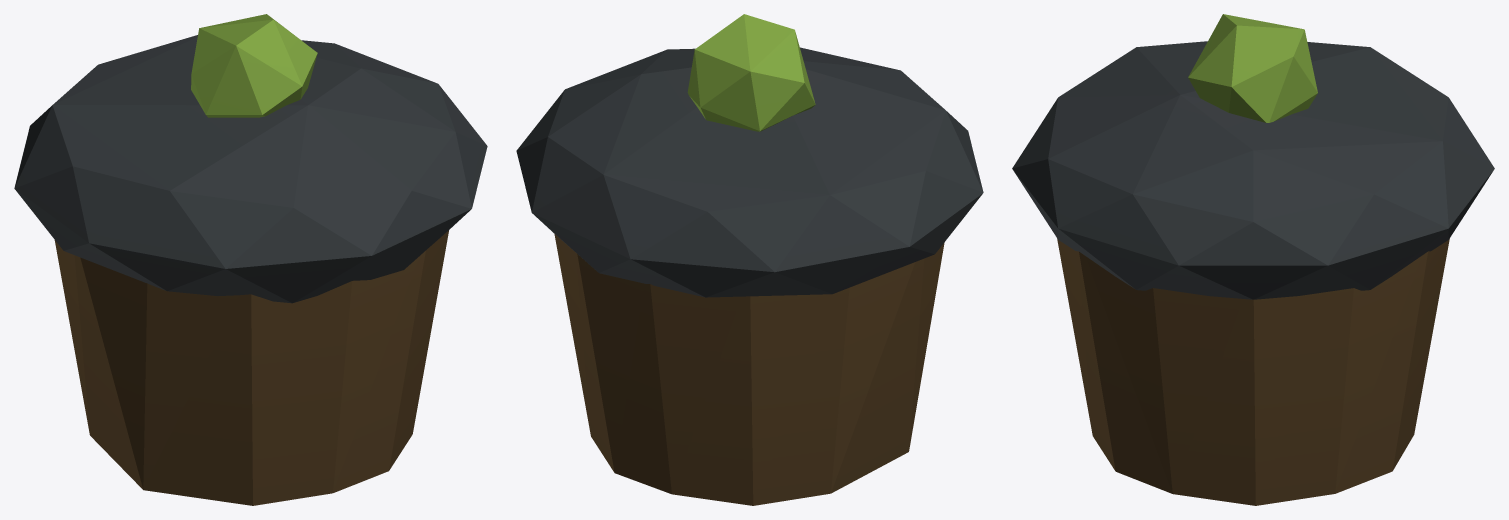
File: Food_01.fbx
3 views of the same model, side by side, from view 1: azimuth 30°, elevation 25°; view 2: azimuth 150°, elevation 25°; view 3: azimuth 270°, elevation 25° (orthographic).
Parts seen in each view (by area): view 1: Food_01; view 2: Food_01; view 3: Food_01.
Boxes of the visible parts, x1,y1,x2,y2 form: Food_01: [14, 14, 487, 505]; Food_01: [516, 14, 983, 505]; Food_01: [1012, 14, 1494, 505].
Size of the model in its own units: 0.1328 by 0.1343 by 0.1396.
